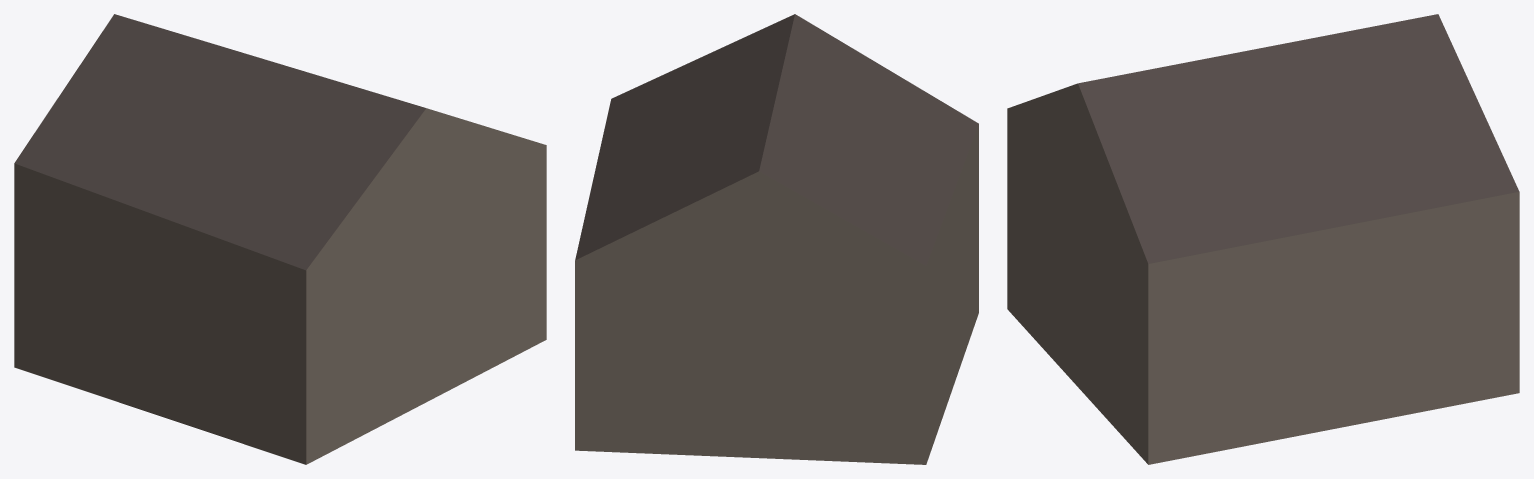
The picture shows the model from 3 angles, left to right: view 1: azimuth 30°, elevation 25°; view 2: azimuth 150°, elevation 25°; view 3: azimuth 270°, elevation 25°; orthographic projection. The views are drawn at different scales.
Parts seen in each view (by area): view 1: HP-w505659402; view 2: HP-w505659402; view 3: HP-w505659402.
Boxes of the visible parts, box(x1,y1,x2,y2) form: HP-w505659402: box(14, 14, 546, 464); HP-w505659402: box(575, 14, 978, 464); HP-w505659402: box(1007, 14, 1519, 464).
Bounding box in the file's own units: 13.81 × 9.07 × 13.86.
